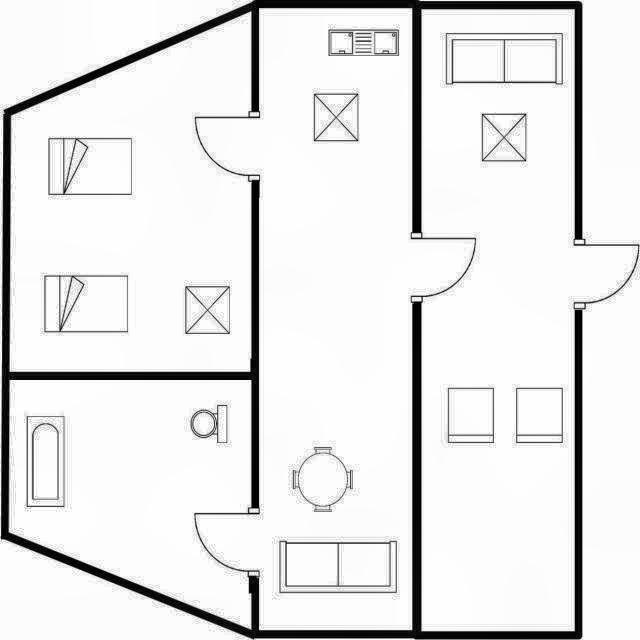room: (421, 9, 575, 631), (259, 8, 412, 630), (10, 11, 251, 372), (8, 380, 252, 630)
